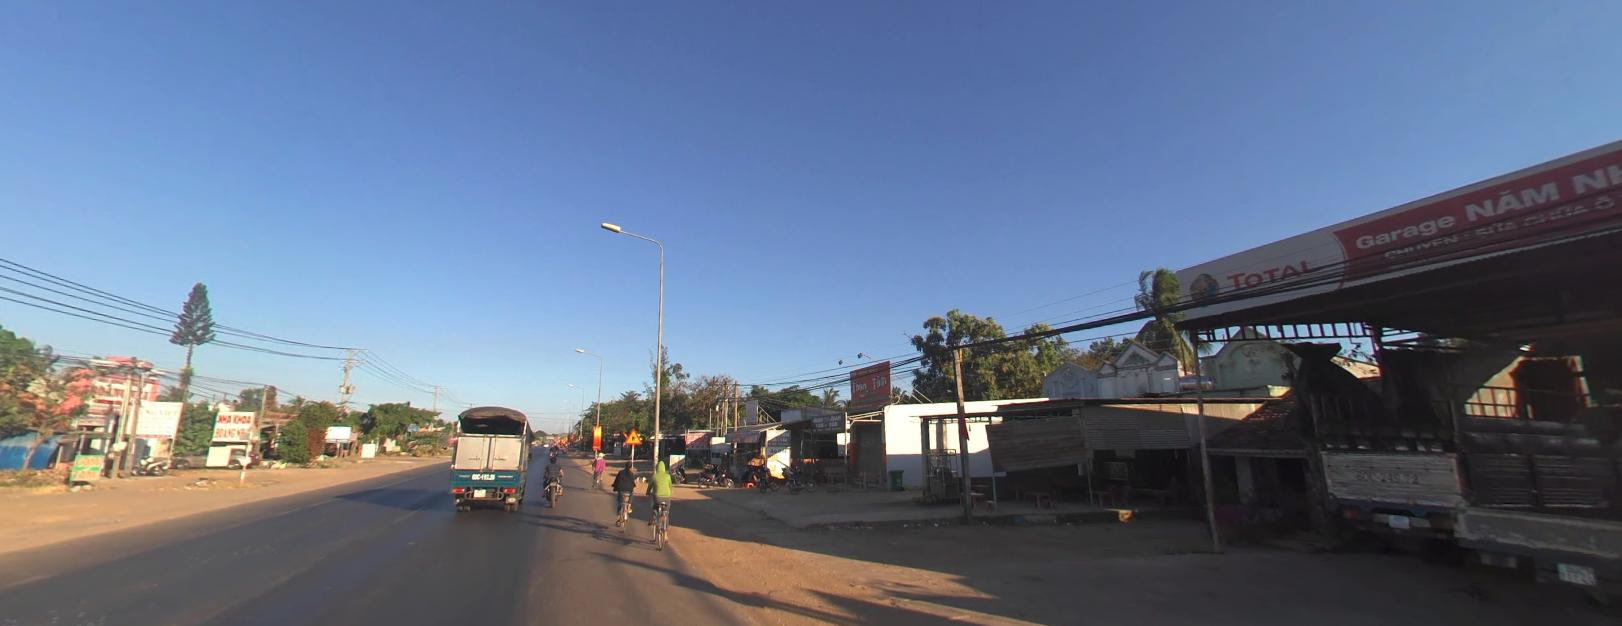Nguy hiem: (624, 426, 642, 442)
